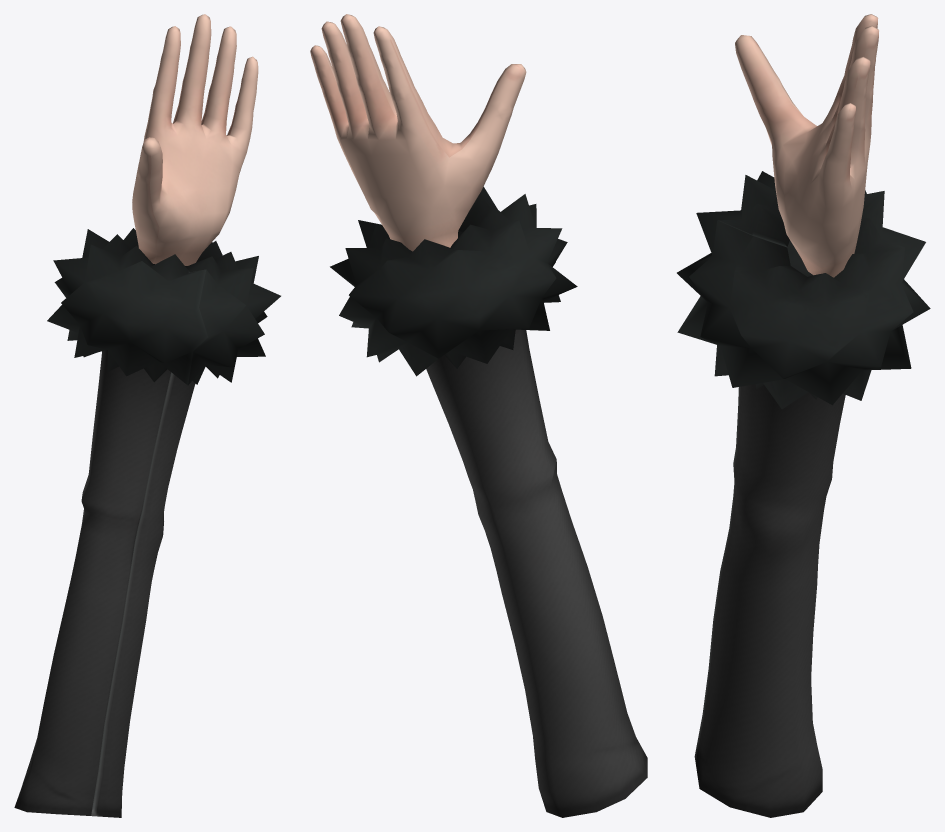
The model's file is cynthia_brazo2.obj.
3 views of the same model, side by side, from view 1: azimuth 30°, elevation 25°; view 2: azimuth 150°, elevation 25°; view 3: azimuth 270°, elevation 25° (orthographic). The views are drawn at different scales.
Visible parts, largest first — view 1: _007_tr0001_00_baseSkin.001, _005_tr0001_00_baseSkin.001, _003_tr0001_00_baseSkin.001; view 2: _007_tr0001_00_baseSkin.001, _005_tr0001_00_baseSkin.001, _003_tr0001_00_baseSkin.001; view 3: _007_tr0001_00_baseSkin.001, _005_tr0001_00_baseSkin.001, _003_tr0001_00_baseSkin.001.
Boxes of the visible parts, x1,y1,x2,y2 form: _007_tr0001_00_baseSkin.001: (14,350,195,817); _005_tr0001_00_baseSkin.001: (47,228,280,385); _003_tr0001_00_baseSkin.001: (132,14,258,265); _007_tr0001_00_baseSkin.001: (426,329,647,817); _005_tr0001_00_baseSkin.001: (330,186,577,376); _003_tr0001_00_baseSkin.001: (310,14,526,251); _007_tr0001_00_baseSkin.001: (694,384,845,817); _005_tr0001_00_baseSkin.001: (677,171,930,409); _003_tr0001_00_baseSkin.001: (735,14,878,277).
Bounding box in the file's own units: 0.278 × 0.7136 × 0.1873.
